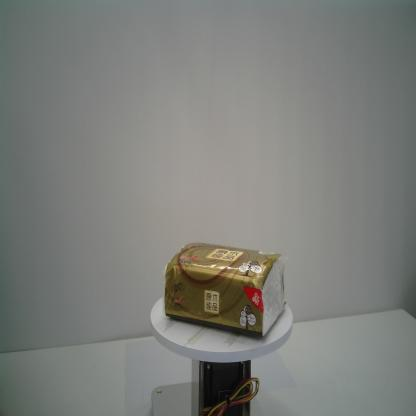Tissue: (162, 241, 288, 340)
